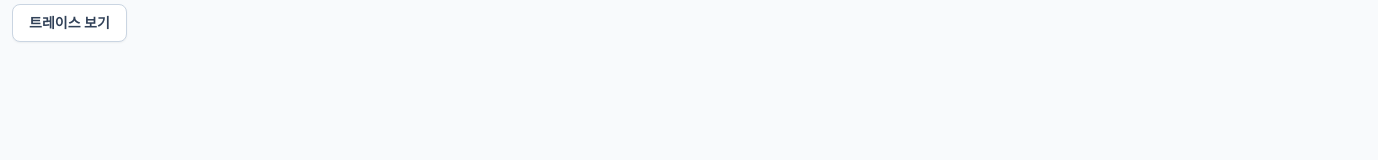
Test case: the trace entry point on a timeline build › shows a 403 as an explained refusal, not a crash, and not as a live region
Click the button "트레이스 보기".
click(69, 23)  # box [12,4,127,42]
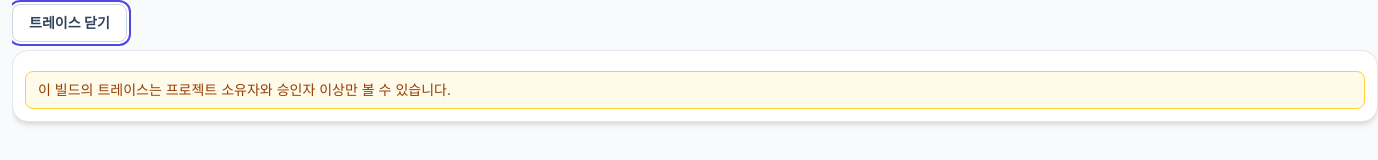
Expected: the text "이 빌드의 트레이스는 프로젝트 소유자와 승인자 이상만 볼 수 있습니다." is shown, [25,71,1365,109]
